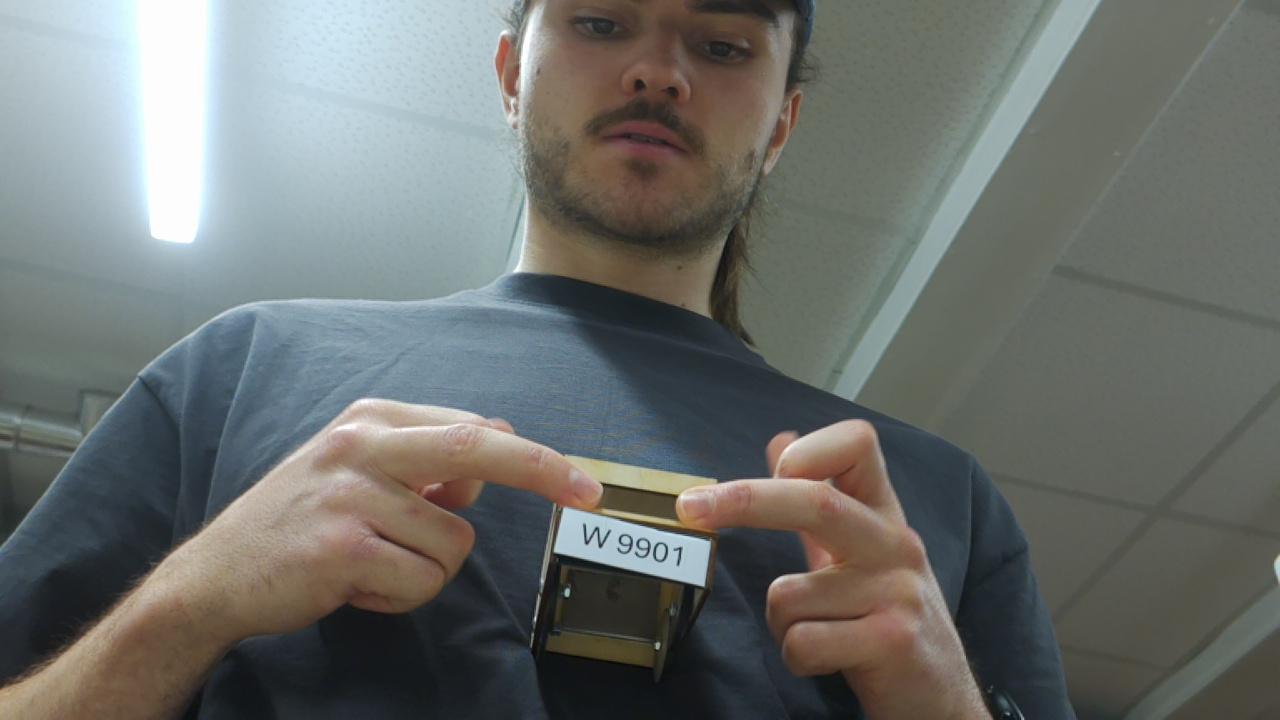license_plate: (549, 501, 712, 585)
